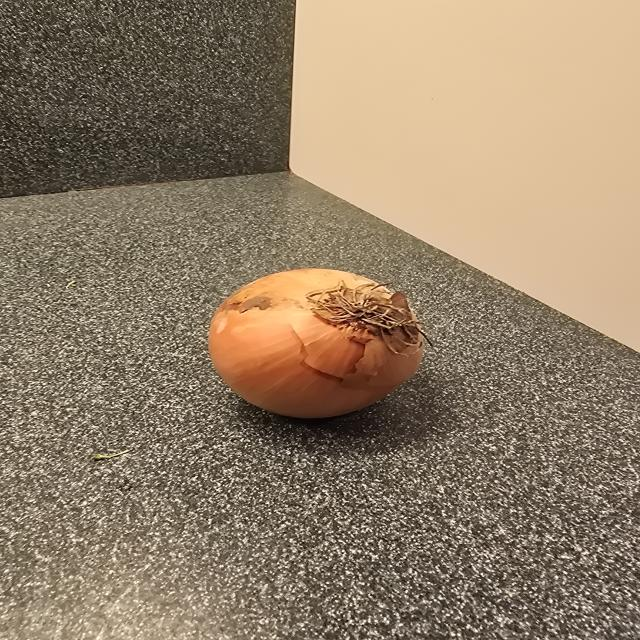Onion: (209, 269, 426, 418)
